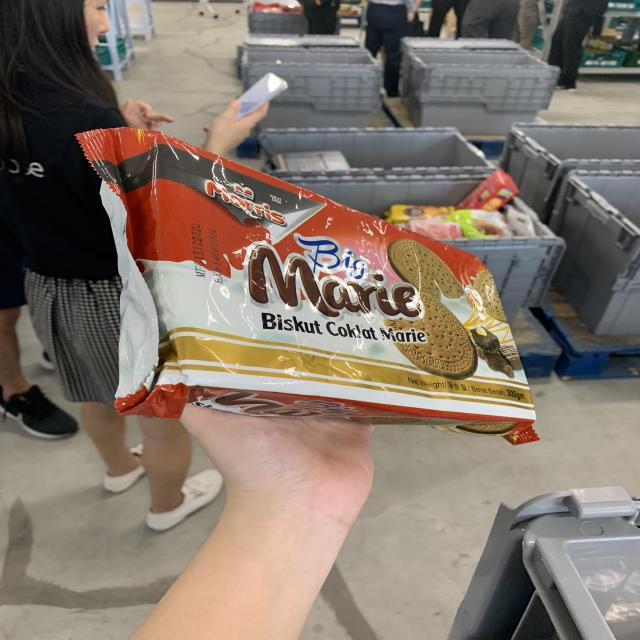object_name: (106, 141, 530, 431)
